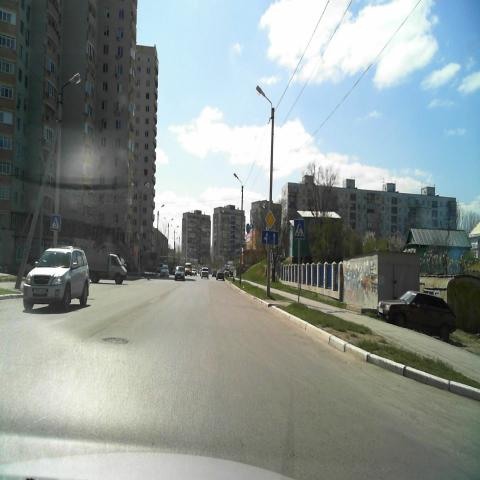5_15_2_2: (262, 230, 278, 246)
5_19_1: (50, 214, 60, 231)
